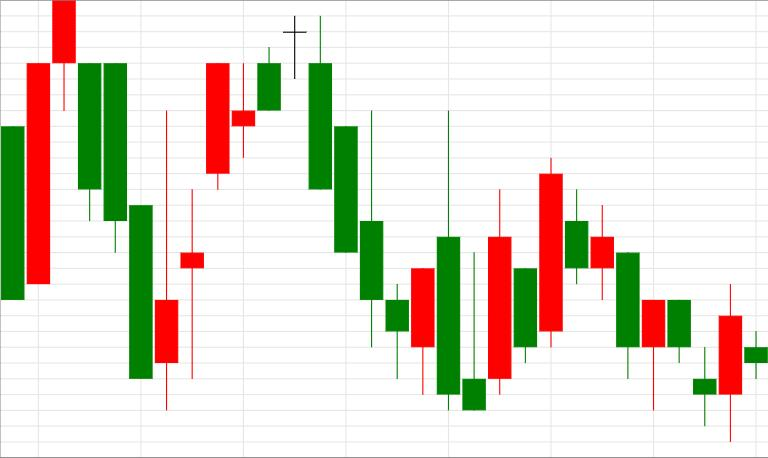inverse_hammer_rise: (309, 15, 486, 411)
